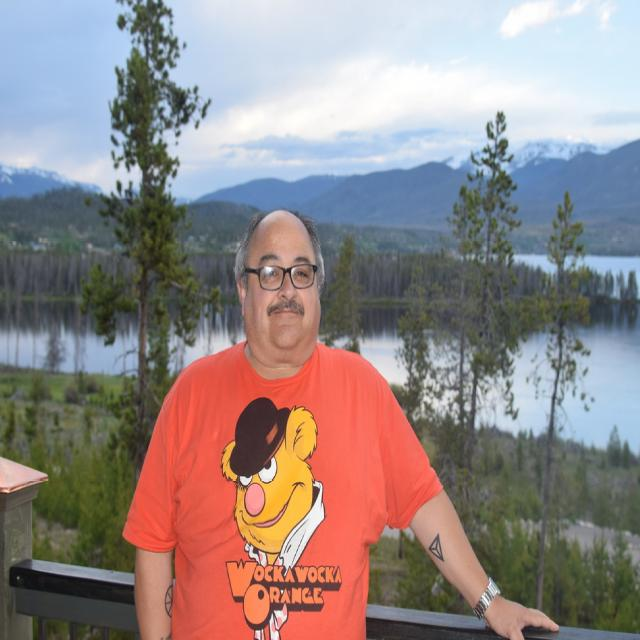Glasses: (242, 263, 318, 289)
